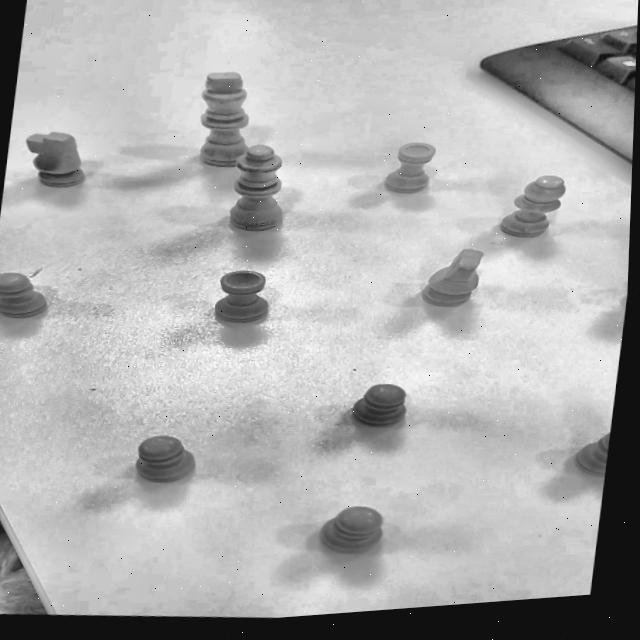white-bishop: (496, 157, 575, 248)
white-king: (180, 62, 269, 177)
white-knight: (5, 120, 114, 203), (418, 232, 500, 327)
white-pawn: (302, 489, 407, 573), (117, 429, 216, 501), (329, 369, 420, 442), (0, 252, 63, 341), (570, 409, 612, 482)
white-queen: (218, 141, 300, 243)
white-rook: (196, 257, 287, 341), (382, 134, 454, 208)
